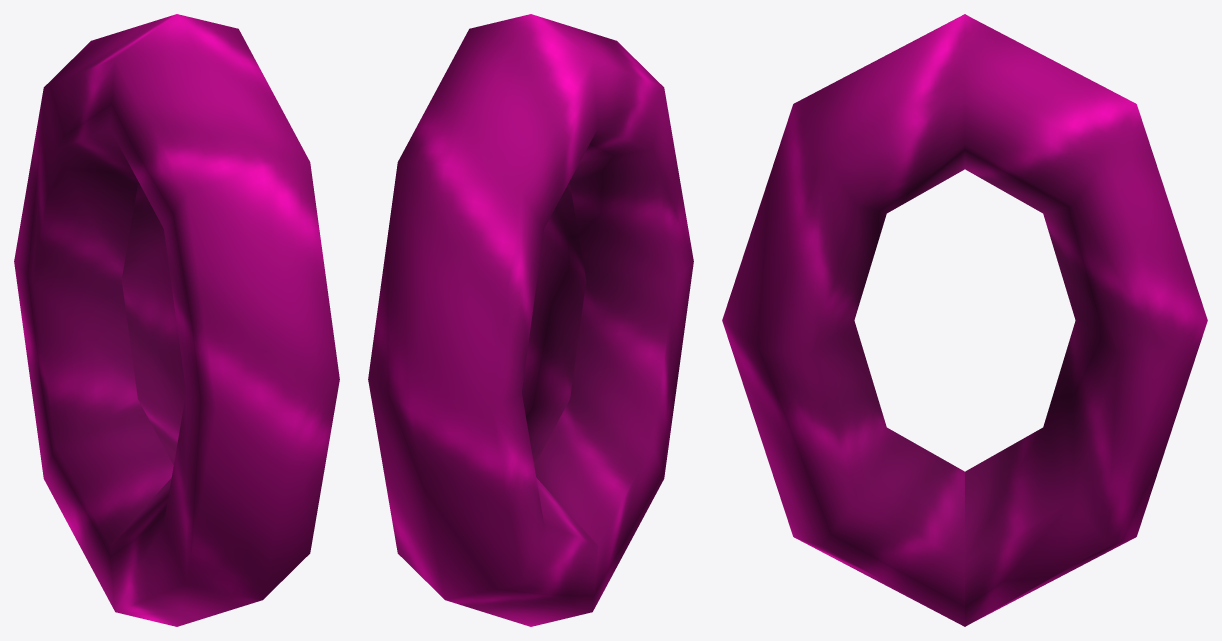
The model's file is String_Loop_F.fbx.
3 renders of one model, left to right at view 1: azimuth 30°, elevation 25°; view 2: azimuth 150°, elevation 25°; view 3: azimuth 270°, elevation 25°, orthographic.
Visible parts, largest first — view 1: String_Loop_F; view 2: String_Loop_F; view 3: String_Loop_F.
Part boxes in pixels (x1=…): String_Loop_F: x1=14, y1=14, x2=339, y2=626; String_Loop_F: x1=368, y1=14, x2=693, y2=626; String_Loop_F: x1=722, y1=14, x2=1207, y2=626.
Size of the model in its own units: 2.56 by 11.15 by 8.01.
1 material, 1 textured.
